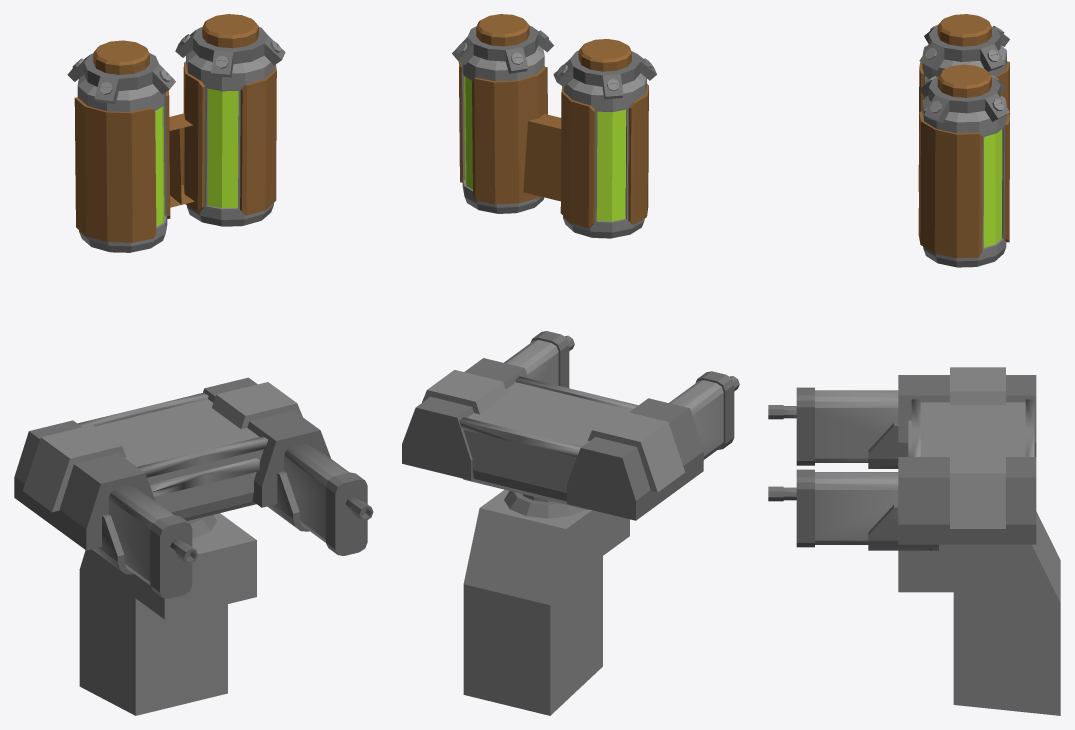
The model's file is UTILITY_PARTS.fbx.
3 renders of one model, left to right at view 1: azimuth 30°, elevation 25°; view 2: azimuth 150°, elevation 25°; view 3: azimuth 270°, elevation 25°, orthographic. The views are drawn at different scales.
Visible parts, largest first — view 1: DOUBLEMOUNT, JETPACK; view 2: DOUBLEMOUNT, JETPACK; view 3: DOUBLEMOUNT, JETPACK.
Boxes of the visible parts, x1,y1,x2,y2 form: DOUBLEMOUNT: (14, 377, 373, 715); JETPACK: (67, 14, 285, 252); DOUBLEMOUNT: (402, 331, 739, 715); JETPACK: (452, 14, 656, 238); DOUBLEMOUNT: (768, 367, 1060, 715); JETPACK: (918, 14, 1009, 267).
Size of the model in its own units: 71.07 by 174 by 71.42.
